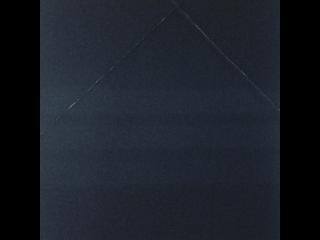crack: (39, 0, 188, 136), (170, 0, 280, 113)
